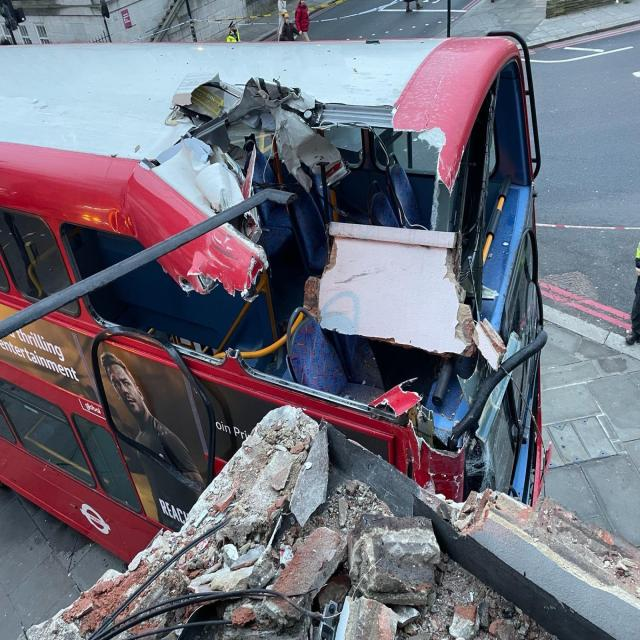Accident: (0, 25, 545, 640)
